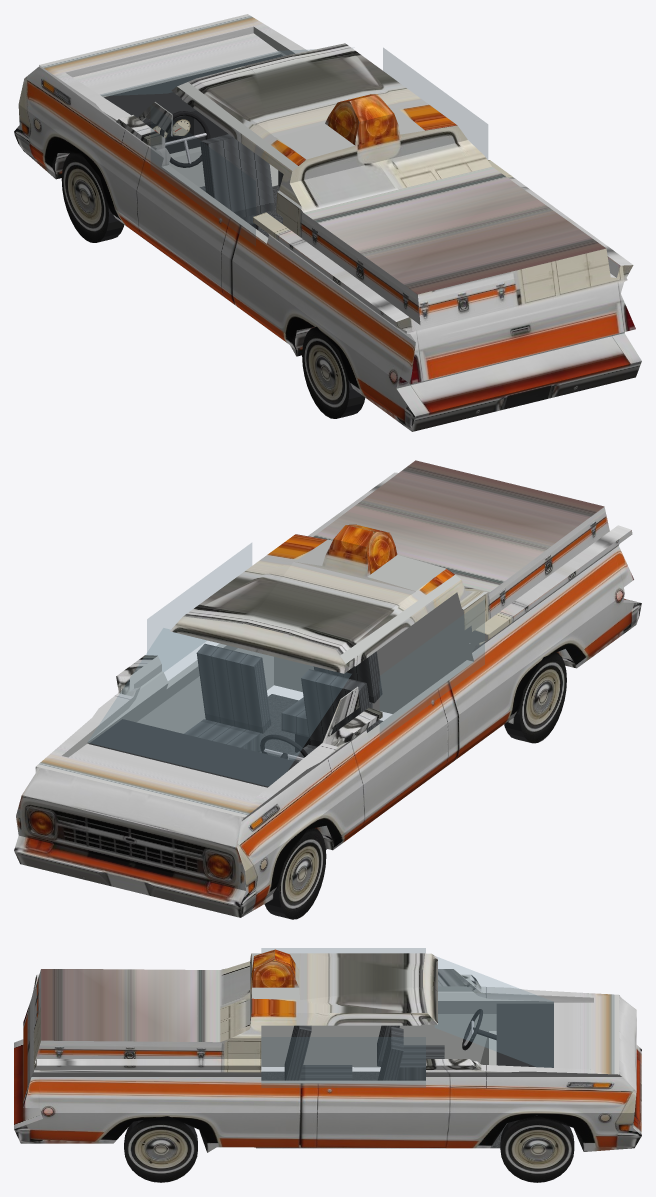
File: public_works_pickup.glb
The picture shows the model from 3 angles, top to bottom: view 1: azimuth 30°, elevation 25°; view 2: azimuth 150°, elevation 25°; view 3: azimuth 270°, elevation 25°; orthographic projection. The views are drawn at different scales.
Visible parts, largest first — view 1: public_works_pickup, public_works_pickup_cabin, wheel_BL, wheel_FL; view 2: public_works_pickup, public_works_pickup_cabin, wheel_BL, wheel_FL; view 3: public_works_pickup, public_works_pickup_cabin, wheel_FR, wheel_BR.
Boxes of the visible parts, bbox=[...] form: public_works_pickup: bbox=[14, 14, 641, 431]; public_works_pickup_cabin: bbox=[100, 48, 487, 245]; wheel_BL: bbox=[302, 326, 365, 418]; wheel_FL: bbox=[61, 153, 124, 242]; public_works_pickup: bbox=[14, 460, 641, 917]; public_works_pickup_cabin: bbox=[88, 543, 484, 849]; wheel_BL: bbox=[504, 652, 566, 743]; wheel_FL: bbox=[264, 828, 326, 919]; public_works_pickup: bbox=[14, 949, 641, 1152]; public_works_pickup_cabin: bbox=[256, 948, 553, 1148]; wheel_FR: bbox=[500, 1115, 574, 1182]; wheel_BR: bbox=[124, 1116, 197, 1182].
Size of the model in its own units: 1.98 by 1.89 by 5.79.
Materials: 12 (4 with a texture image).
